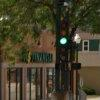Traffic light: (52, 13, 74, 57)
